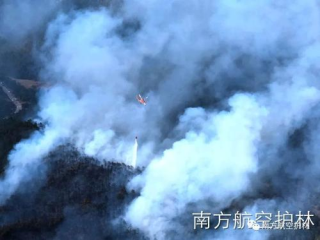smoke: (154, 61, 313, 215), (5, 11, 124, 201)
